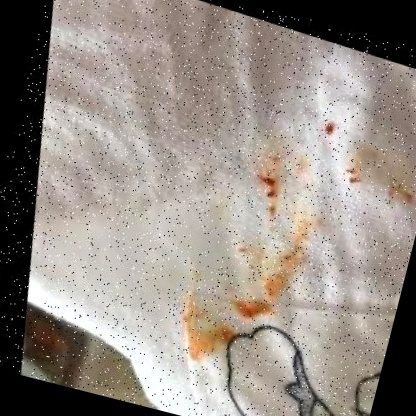kimchi: (216, 218, 316, 331), (335, 139, 416, 209), (164, 284, 232, 363), (241, 158, 294, 217), (288, 208, 333, 263), (197, 302, 242, 345), (315, 112, 346, 146)
